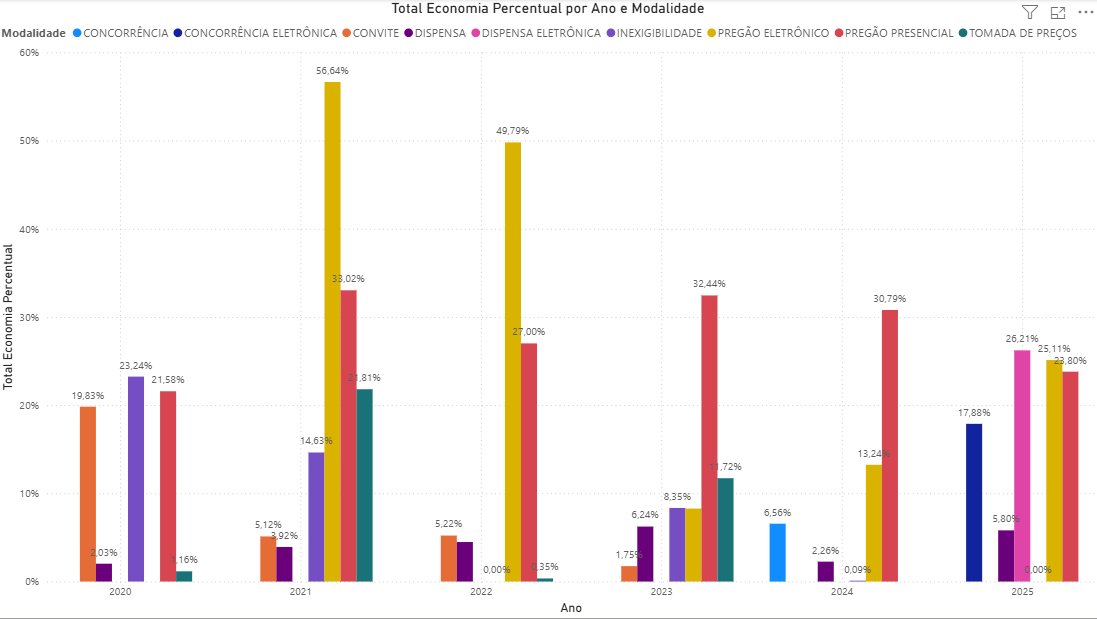

The dashboard page shown, as its layout file describes it:
{"tool":"powerbi","page":{"name":"Total Economia Percentual por Ano e Modalidade","canvas":[1280,720],"ordinal":0},"visuals":[{"type":"clusteredColumnChart","fields":{"Category":["Calendario.Ano"],"Series":["Licitações 2020 - 2025.Modalidade"],"Y":["Licitações 2020 - 2025.Total Economia Percentual"]},"box":[0,0,1279.7,720],"z":0}]}

Visuals, with their boxes on the page's 1280x720 design canvas (x1, y1, x2, y2). These are canvas units, not pixel positions in the 1097x619 screenshot, which may show the page scaled, cropped or inside an application window:
clusteredColumnChart - Calendario.Ano x Licitações 2020 - 2025.Modalidade: {"left": 0, "top": 0, "right": 1280, "bottom": 720}
